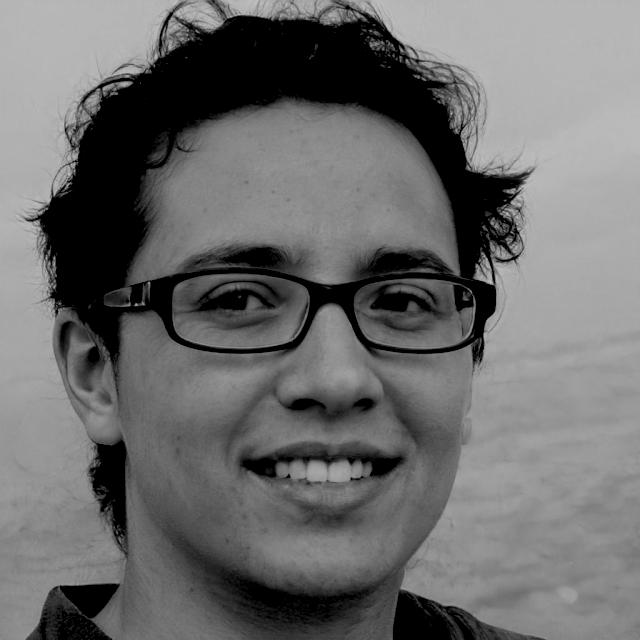lens: (172, 274, 311, 349), (354, 278, 477, 348)
